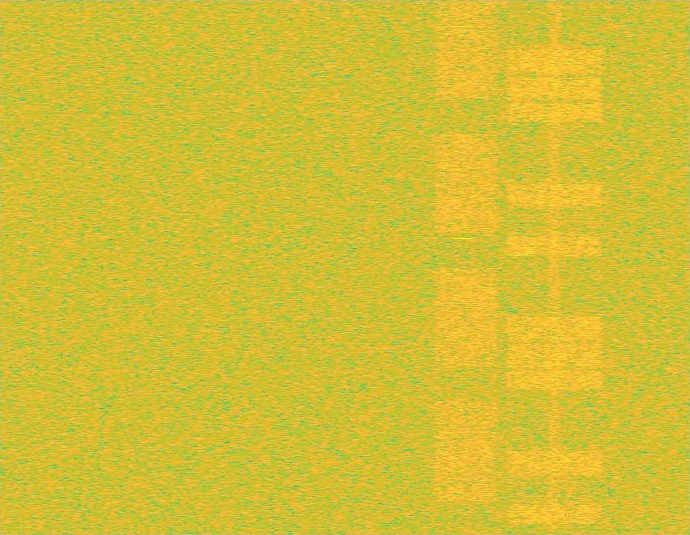5G: (432, 0, 501, 534)
DSSS: (548, 0, 562, 534)
LTE: (503, 0, 606, 534)
Radar: (456, 0, 470, 534)
